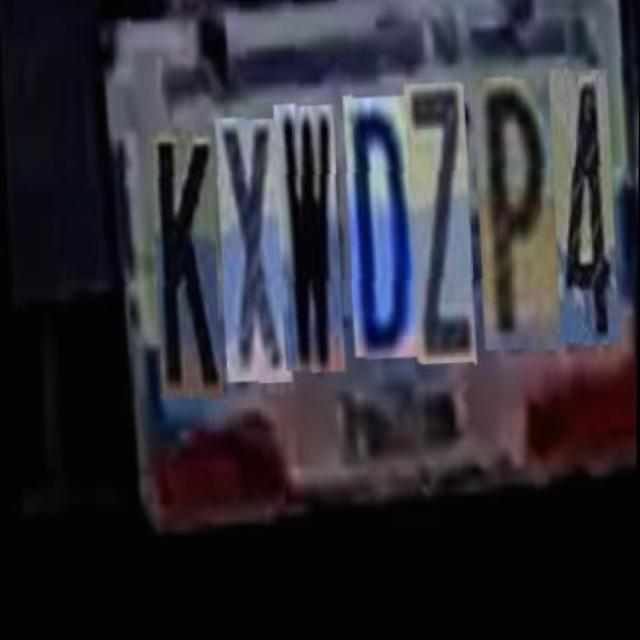4: (538, 49, 611, 327)
d: (333, 84, 411, 348)
k: (141, 125, 217, 397)
p: (462, 59, 556, 336)
w: (263, 94, 338, 365)
x: (206, 110, 286, 378)
z: (393, 68, 470, 351)
